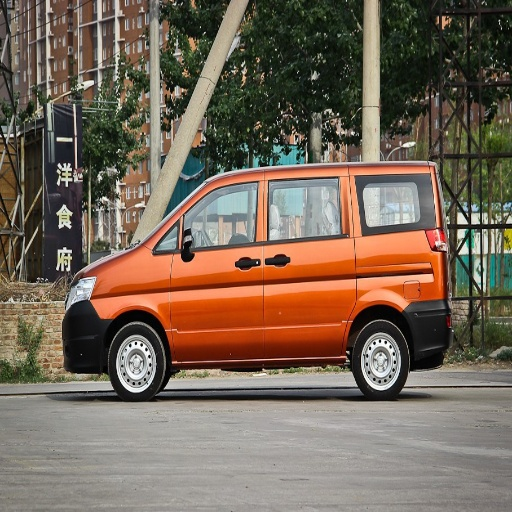back_glass: (222, 1, 349, 94)
back_left_door: (266, 177, 324, 350)
front_left_door: (159, 178, 267, 358)
trunk: (316, 232, 442, 351)
